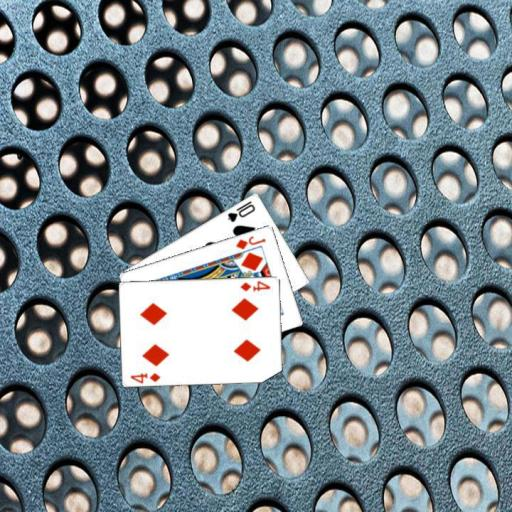10S: (224, 198, 257, 223)
4D: (238, 278, 272, 292), (128, 370, 162, 384)
JD: (233, 233, 268, 251)
